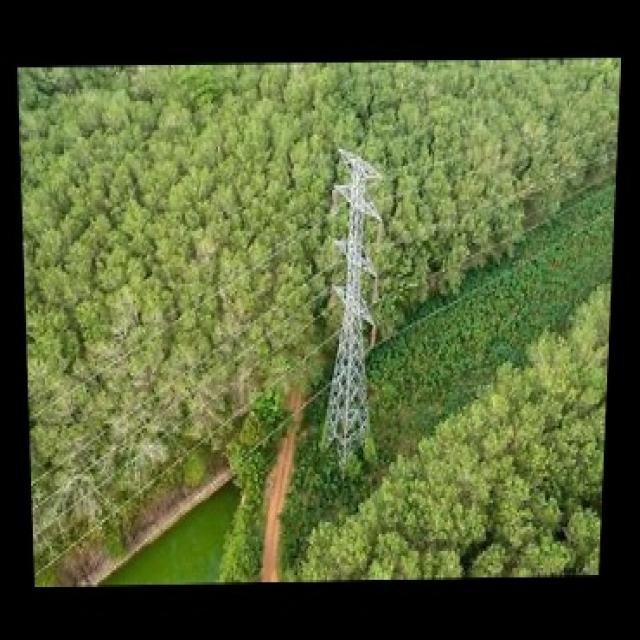utility poles: (321, 127, 387, 482)
